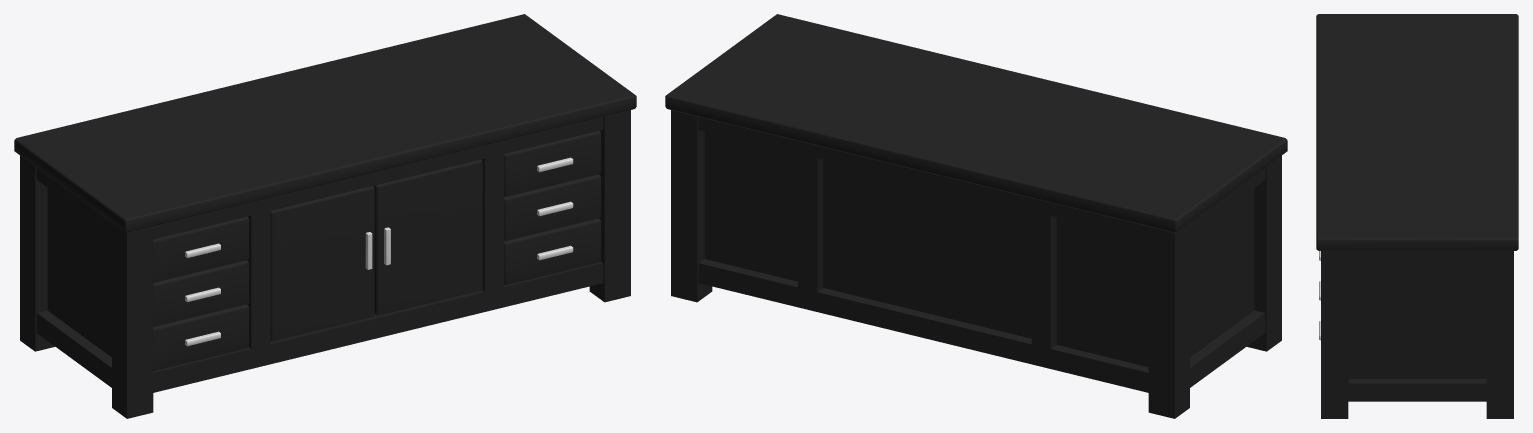
Rendered from dresser_032.fbx.
3 renders of one model, left to right at view 1: azimuth 30°, elevation 25°; view 2: azimuth 150°, elevation 25°; view 3: azimuth 270°, elevation 25°, orthographic. The views are drawn at different scales.
Parts seen in each view (by area): view 1: dresser_032; view 2: dresser_032; view 3: dresser_032.
Part boxes in pixels (bbox=[...]): dresser_032: bbox=[14, 14, 636, 418]; dresser_032: bbox=[665, 14, 1287, 418]; dresser_032: bbox=[1316, 14, 1518, 418].
Bounding box in the file's own units: 278 × 106 × 105.
